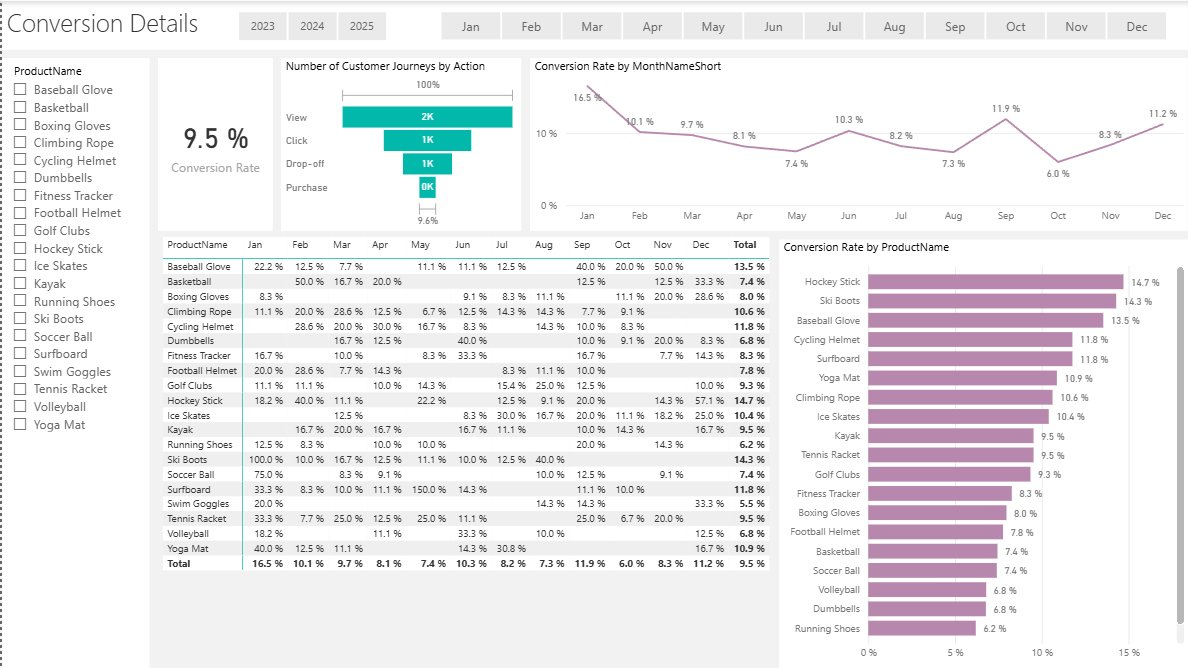

The dashboard page shown, as its layout file describes it:
{"tool":"powerbi","page":{"name":"Conversion Details","canvas":[1280,720],"ordinal":1},"visuals":[{"type":"textbox","box":[0,0,1280,52.6],"z":0},{"type":"slicer","fields":{"Values":["dim_products.ProductName"]},"box":[0,61.9,159.4,658.4],"z":1000},{"type":"card","fields":{"Values":["_Calculations.Conversion Rate"]},"box":[168.5,61.9,123.8,186.7],"z":2000},{"type":"lineChart","fields":{"Y":["_Calculations.Conversion Rate"],"Category":["Calendar.MonthNameShort"]},"box":[570.1,61.9,710.3,186.7],"z":3000},{"type":"clusteredBarChart","fields":{"Category":["dim_products.ProductName"],"Y":["_Calculations.Conversion Rate"]},"box":[838.8,257.5,442,463.1],"z":4000},{"type":"slicer","fields":{"Values":["Calendar.Year"]},"box":[230.2,4.1,208.5,44.4],"z":5000},{"type":"slicer","fields":{"Values":["Calendar.MonthNameShort"]},"box":[448,4.6,832.3,43.7],"z":6000},{"type":"funnel","fields":{"Category":["fact_customer_journey.Action"],"Y":["_Calculations.Number of Customer Journeys"]},"box":[301.4,61.9,259.5,186.7],"z":8000},{"type":"pivotTable","fields":{"Rows":["dim_products.ProductName"],"Columns":["Calendar.MonthNameShort"],"Values":["_Calculations.Conversion Rate"]},"box":[168.4,249.4,696.3,380.5],"z":8001}]}

Visuals, with their boxes in screenshot pixels (x1, y1, x2, y2), scaled from the page's 1280x720 canvas onto the 1188x668 screenshot:
textbox: [0, 0, 1187, 49]
slicer - dim_products.ProductName: [0, 57, 148, 667]
card - _Calculations.Conversion Rate: [156, 57, 271, 231]
lineChart - _Calculations.Conversion Rate x Calendar.MonthNameShort: [529, 57, 1187, 231]
clusteredBarChart - dim_products.ProductName x _Calculations.Conversion Rate: [779, 239, 1187, 667]
slicer - Calendar.Year: [214, 4, 407, 45]
slicer - Calendar.MonthNameShort: [416, 4, 1187, 45]
funnel - fact_customer_journey.Action x _Calculations.Number of Customer Journeys: [280, 57, 521, 231]
pivotTable - dim_products.ProductName x Calendar.MonthNameShort: [156, 231, 803, 584]
